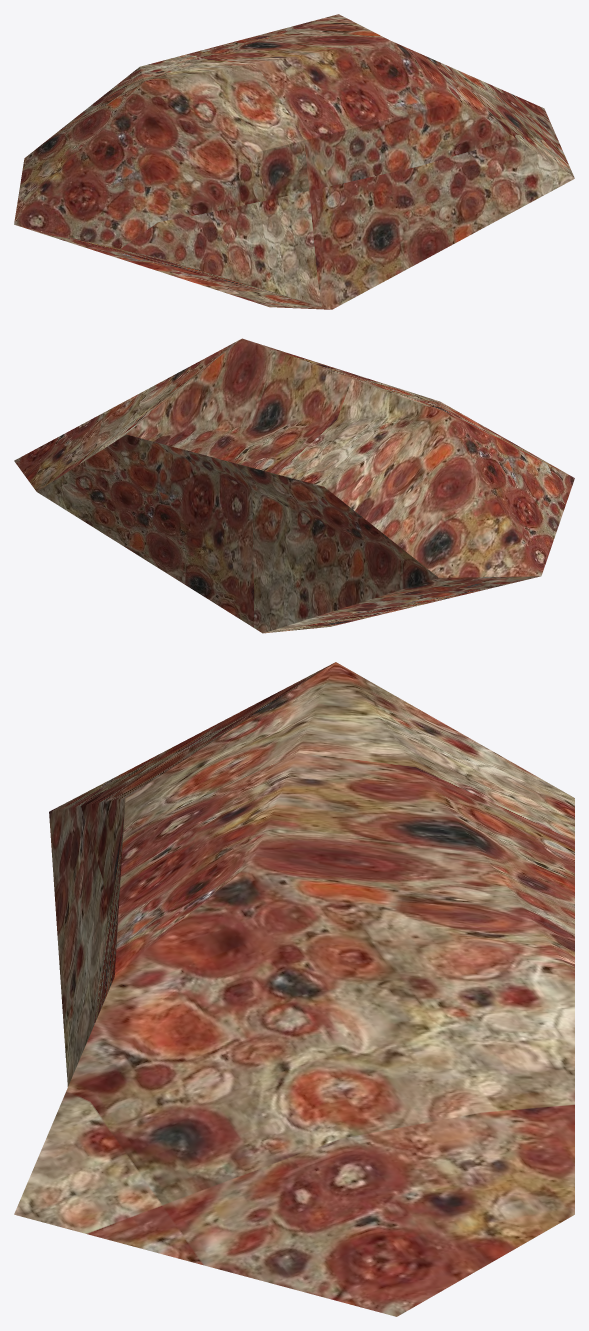
Rendered from bauxite.fbx.
The picture shows the model from 3 angles, top to bottom: view 1: azimuth 30°, elevation 25°; view 2: azimuth 150°, elevation 25°; view 3: azimuth 270°, elevation 25°; orthographic projection. The views are drawn at different scales.
Parts seen in each view (by area): view 1: bauxite; view 2: bauxite; view 3: bauxite.
Boxes of the visible parts, <box> form: bauxite: <box>14,14,574,309</box>; bauxite: <box>14,338,574,633</box>; bauxite: <box>14,662,574,1316</box>.
Size of the model in its own units: 27.14 by 12.36 by 12.94.
Materials: 1 (1 with a texture image).
